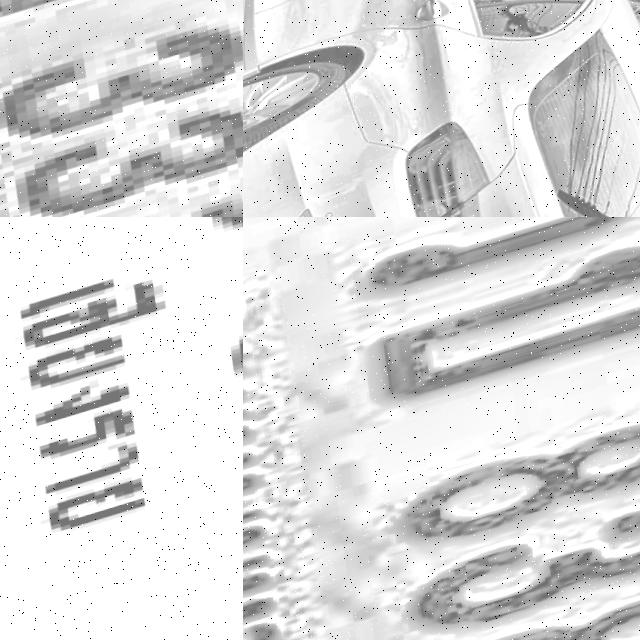license-plate: (243, 217, 640, 640), (0, 217, 243, 640), (0, 0, 243, 217)
